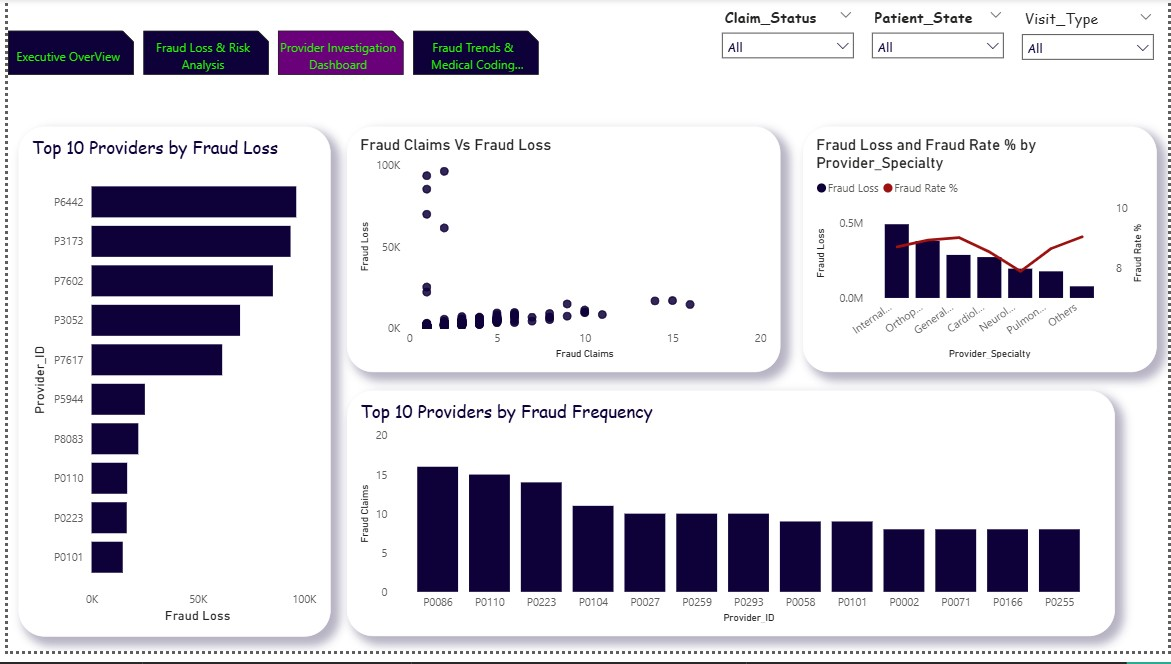

What the dashboard file says about the page in this screenshot:
{"tool":"powerbi","page":{"name":"Provider Investigation Dashboard","canvas":[1280,720],"ordinal":2},"visuals":[{"type":"slicer","fields":{"Values":["Health_Care_Fraud_Detection.Claim_Status"]},"box":[778.5,3.3,165.6,67.9],"z":0,"group":"g1"},{"type":"clusteredBarChart","title":"Top 10 Providers by Fraud Loss","fields":{"Y":["Health_Care_Fraud_Detection.Fraud Loss"],"Category":["Health_Care_Fraud_Detection.Provider_ID"]},"box":[11.6,140.8,344.5,563.2],"z":0},{"type":"clusteredColumnChart","title":"Top 10 Providers by Fraud Frequency","fields":{"Category":["Health_Care_Fraud_Detection.Provider_ID"],"Y":["Health_Care_Fraud_Detection.Fraud Claims"]},"box":[374.4,432.3,848.1,271.7],"z":1},{"type":"lineClusteredColumnComboChart","fields":{"Category":["Health_Care_Fraud_Detection.Provider_Specialty"],"Y":["Health_Care_Fraud_Detection.Fraud Loss"],"Y2":["Health_Care_Fraud_Detection.Fraud Rate %"]},"box":[877.9,140.8,390.9,271.7],"z":2},{"type":"scatterChart","title":"Fraud Claims Vs Fraud Loss ","fields":{"X":["Health_Care_Fraud_Detection.Fraud Claims"],"Y":["Health_Care_Fraud_Detection.Fraud Loss"],"Category":["Health_Care_Fraud_Detection.Provider_ID"]},"box":[374.4,140.8,478.7,271.7],"z":3},{"type":"pageNavigator","box":[0,34.8,588.1,49.7],"z":4},{"type":"group","id":"g1","title":"Group 1","box":[778.5,3.3,496.9,69.6],"z":5},{"type":"slicer","fields":{"Values":["Health_Care_Fraud_Detection.Patient_State"]},"box":[944.1,3.3,165.6,67.9],"z":1000,"group":"g1"},{"type":"slicer","fields":{"Values":["Health_Care_Fraud_Detection.Visit_Type"]},"box":[1109.8,5,165.6,67.9],"z":2000,"group":"g1"}]}

Visuals, with their boxes in screenshot pixels (x1, y1, x2, y2), scaled from the page's 1280x720 canvas onto the 1171x664 screenshot:
slicer - Health_Care_Fraud_Detection.Claim_Status: (left=712, top=3, right=864, bottom=66)
"Top 10 Providers by Fraud Loss" clusteredBarChart: (left=11, top=130, right=326, bottom=649)
"Top 10 Providers by Fraud Frequency" clusteredColumnChart: (left=343, top=399, right=1118, bottom=649)
lineClusteredColumnComboChart - Health_Care_Fraud_Detection.Provider_Specialty x Health_Care_Fraud_Detection.Fraud Loss: (left=803, top=130, right=1161, bottom=380)
"Fraud Claims Vs Fraud Loss " scatterChart: (left=343, top=130, right=780, bottom=380)
pageNavigator: (left=0, top=32, right=538, bottom=78)
"Group 1" group: (left=712, top=3, right=1167, bottom=67)
slicer - Health_Care_Fraud_Detection.Patient_State: (left=864, top=3, right=1015, bottom=66)
slicer - Health_Care_Fraud_Detection.Visit_Type: (left=1015, top=5, right=1167, bottom=67)
